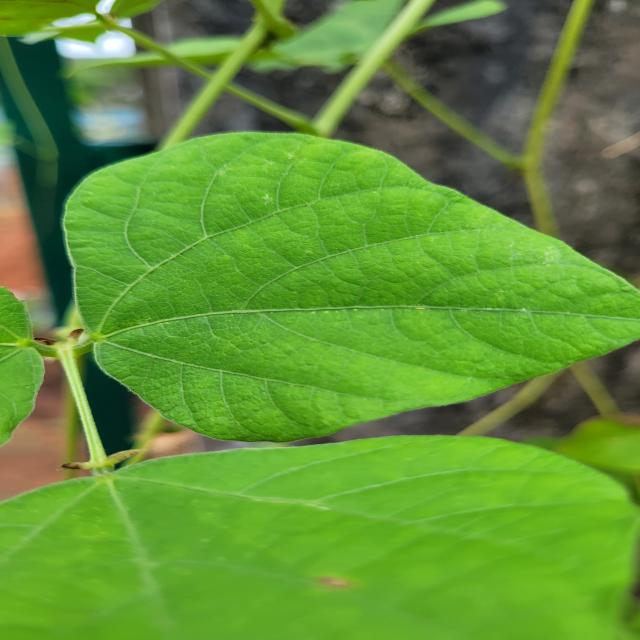Dolicos bean_healthy: (59, 130, 631, 447), (0, 437, 640, 640)
